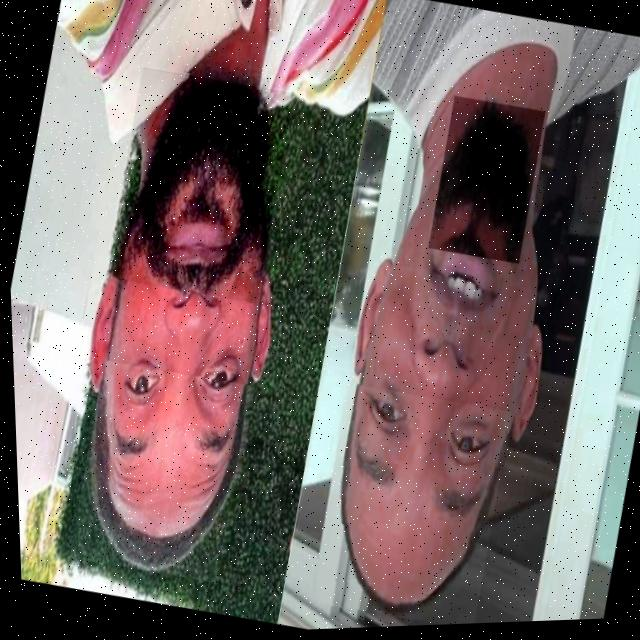beard: (106, 83, 268, 290), (434, 106, 529, 266)
hair: (337, 388, 500, 619), (89, 387, 246, 573)
